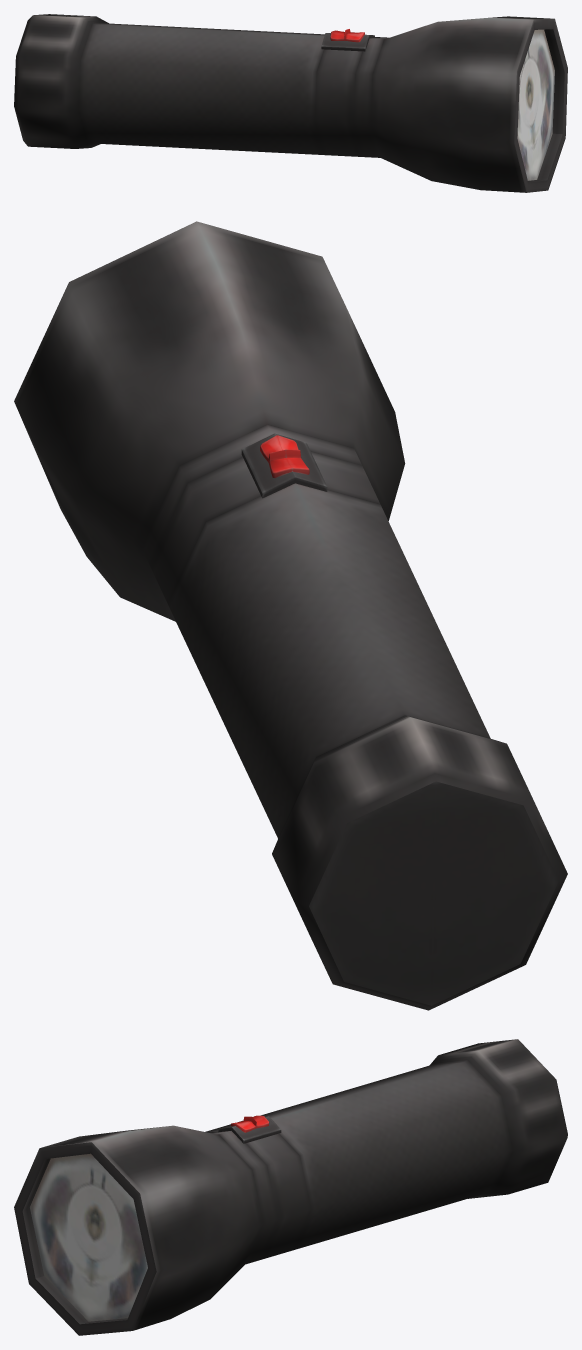
The model's file is WuZhengDiaoChaKe_01_shoudiantong_01.FBX.
The picture shows the model from 3 angles, top to bottom: view 1: azimuth 30°, elevation 25°; view 2: azimuth 150°, elevation 25°; view 3: azimuth 270°, elevation 25°; orthographic projection. The views are drawn at different scales.
Parts seen in each view (by area): view 1: CeSuo_shoudiantong_01; view 2: CeSuo_shoudiantong_01; view 3: CeSuo_shoudiantong_01.
Part boxes in pixels (x1,y1,x2,y2): CeSuo_shoudiantong_01: (14, 14, 567, 192); CeSuo_shoudiantong_01: (14, 221, 567, 1010); CeSuo_shoudiantong_01: (14, 1039, 567, 1335).
Bounding box in the file's own units: 87.11 × 37.75 × 90.05.
